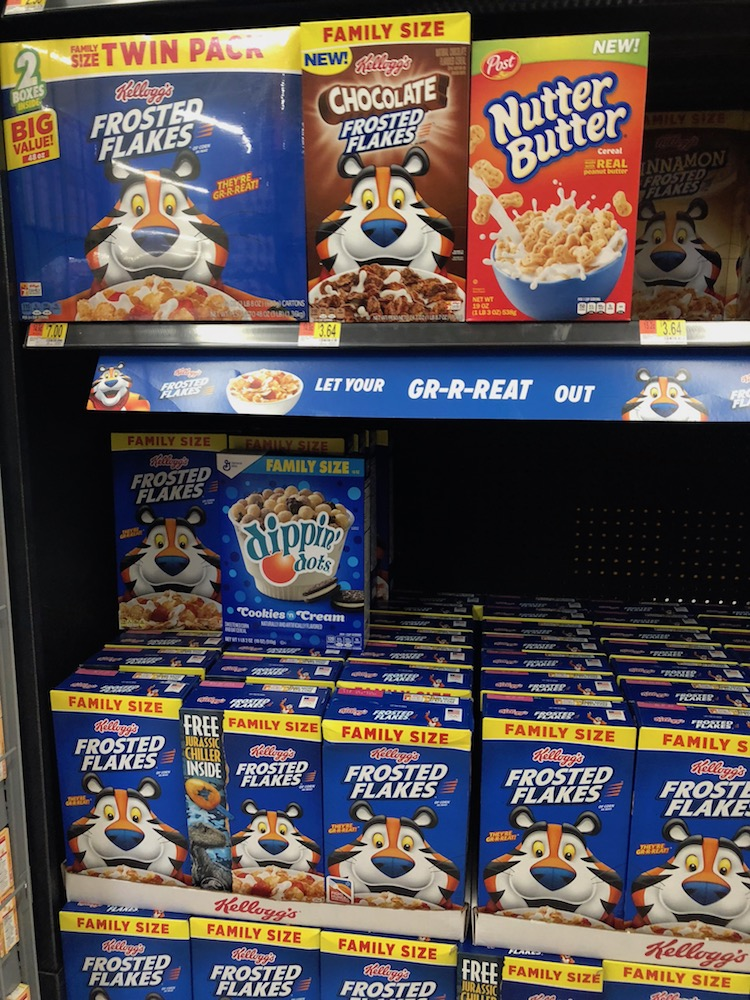Dippin Dots Cookies & Cream -568929378: (230, 463, 374, 649)
Nutter Butter-565717511: (472, 43, 657, 312)
